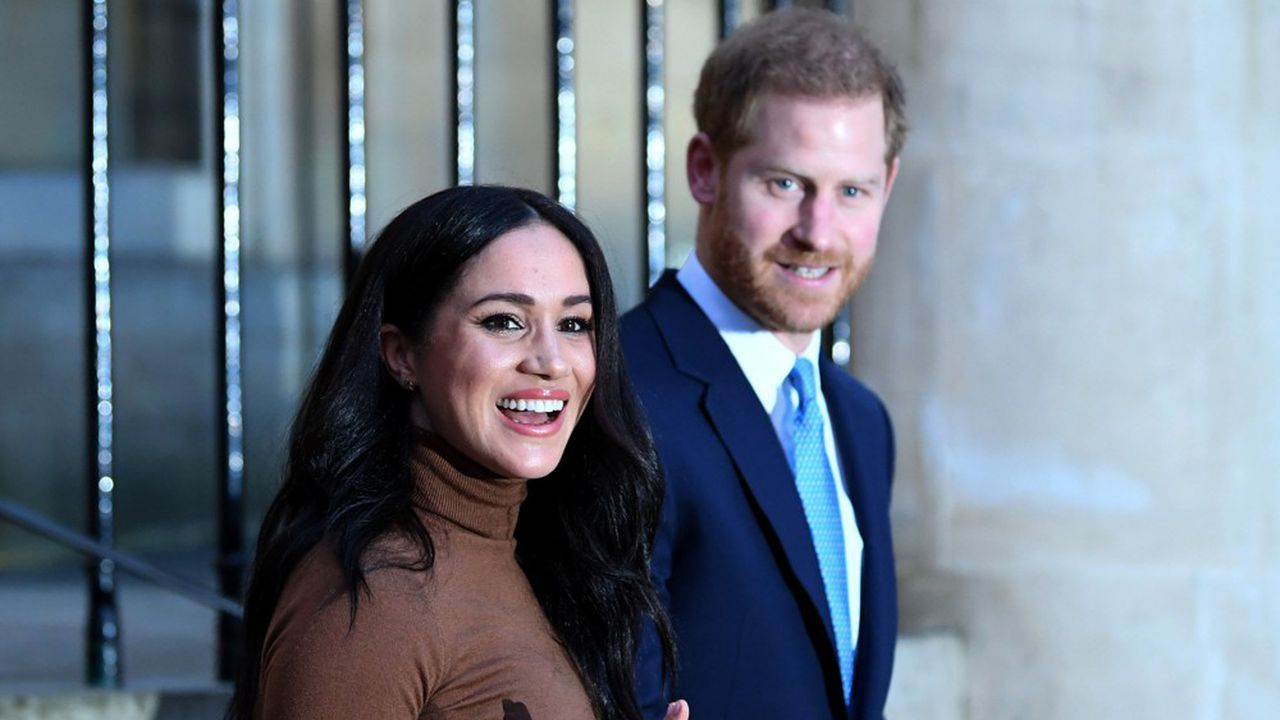without_mask: (406, 211, 621, 491), (733, 69, 891, 320)
